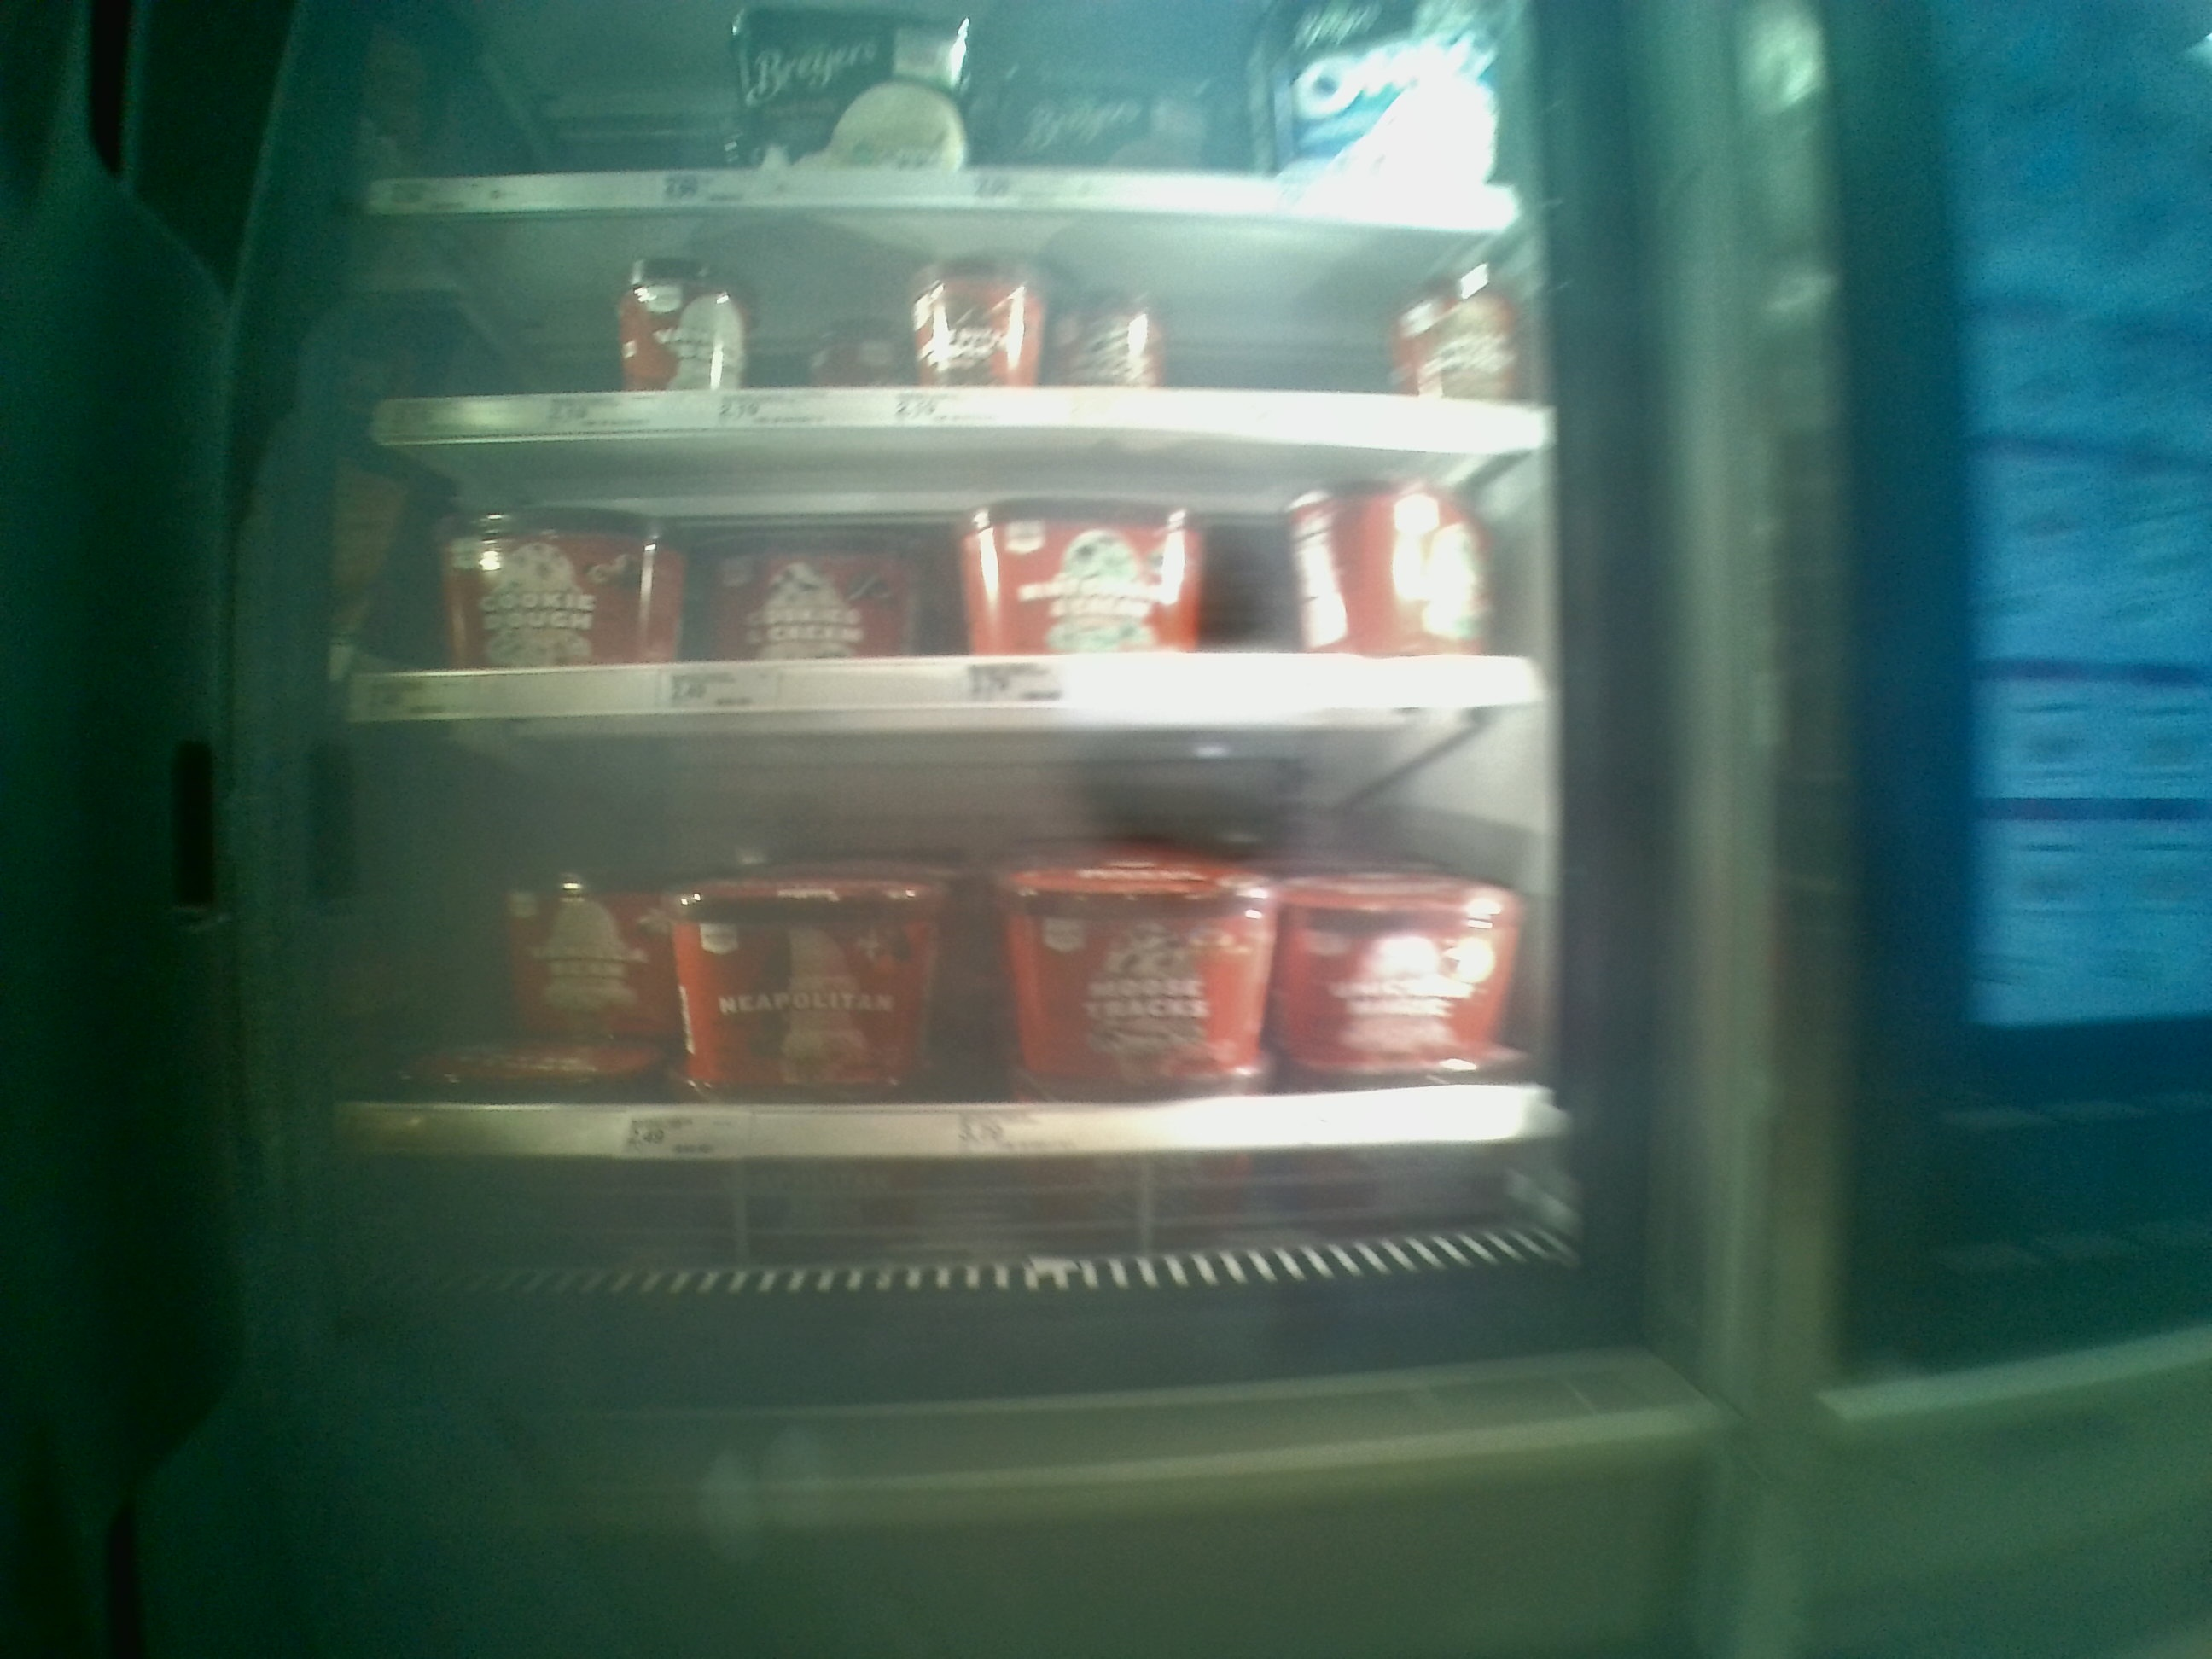ice-cream-shelf: (334, 725, 1543, 1157), (338, 453, 1550, 721), (341, 220, 1541, 453)
